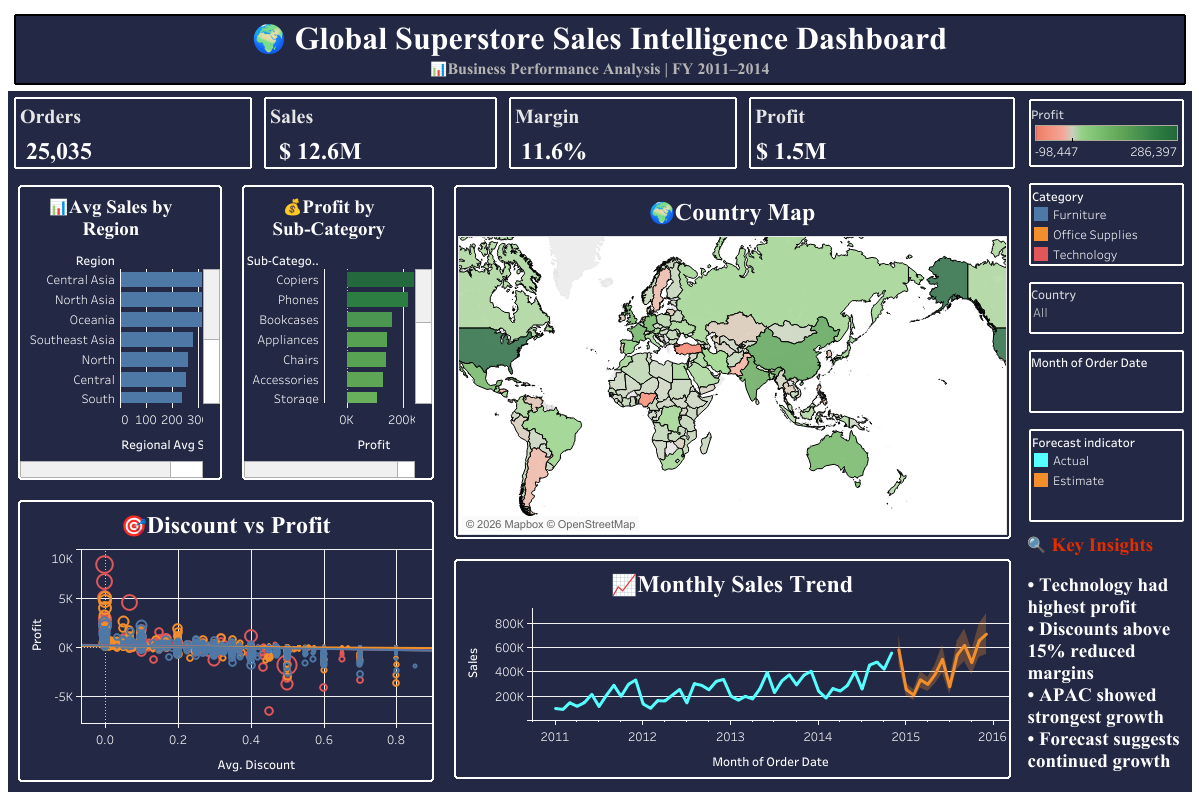

The dashboard page shown, as its layout file describes it:
{"tool":"tableau","page":{"name":"Dashboard 1","canvas":[1200,800],"ordinal":0},"visuals":[{"type":"title","box":[8,8,1184,83]},{"type":"worksheet","title":"Sheet 4","mark":"Automatic","box":[8,91,249.8,84]},{"type":"worksheet","title":"Sheet 2","mark":"Automatic","box":[257.8,91,245.5,84]},{"type":"worksheet","title":"Sheet 5","mark":"Automatic","box":[503.3,91,239.6,84]},{"type":"worksheet","title":"Sheet 3","mark":"Automatic","box":[742.9,91,278.1,84]},{"type":"legend","title":"Sheet 1","param":"[federated.0s529w81pga0901gdeeqy06llczr].[sum:Profit:qk]","box":[1021,91,171,84]},{"type":"worksheet","title":"Sheet 7","mark":"Automatic","rows":["Region"],"cols":["Calculation_0985452577988609"],"box":[8,175,224.1,314.7]},{"type":"worksheet","title":"Sheet 6","mark":"Automatic","rows":["Sub-Category"],"cols":["Profit"],"box":[232.1,175,212.2,314.7]},{"type":"worksheet","title":"Sheet 1","mark":"Multipolygon","box":[444.3,175,576.7,374.4]},{"type":"legend","title":"Sheet 9","param":"[federated.0s529w81pga0901gdeeqy06llczr].[none:Category:nk]","box":[1021,175,171,98]},{"type":"filter","title":"Sheet 1","param":"[federated.0s529w81pga0901gdeeqy06llczr].[none:Country:nk]","box":[1021,273,171,64]},{"type":"filter","title":"Sheet 8","param":"[federated.0s529w81pga0901gdeeqy06llczr].[tmn:Order Date:qk]","box":[1021,337,171,79]},{"type":"legend","title":"Sheet 8","param":"[federated.0s529w81pga0901gdeeqy06llczr].[none:Forecast Indicator:nk]","box":[1021,416,171,109]},{"type":"worksheet","title":"Sheet 9","mark":"Automatic","rows":["Profit"],"cols":["Discount"],"box":[8,489.7,436.3,302.3]},{"type":"text","box":[1021,525,171,250]},{"type":"worksheet","title":"Sheet 8","mark":"Line","rows":["Sales"],"cols":["Order Date"],"box":[444.3,549.4,576.7,239.9]}]}

Visuals, with their boxes in screenshot pixels (x1, y1, x2, y2), scaled from the page's 1200x800 canvas onto the 1199x799 screenshot:
title: 8 8 1191 91
"Sheet 4" worksheet: 8 91 258 175
"Sheet 2" worksheet: 258 91 503 175
"Sheet 5" worksheet: 503 91 742 175
"Sheet 3" worksheet: 742 91 1020 175
"Sheet 1" legend: 1020 91 1191 175
"Sheet 7" worksheet: 8 175 232 489
"Sheet 6" worksheet: 232 175 444 489
"Sheet 1" worksheet (Multipolygon marks): 444 175 1020 549
"Sheet 9" legend: 1020 175 1191 273
"Sheet 1" filter: 1020 273 1191 337
"Sheet 8" filter: 1020 337 1191 415
"Sheet 8" legend: 1020 415 1191 524
"Sheet 9" worksheet: 8 489 444 791
text: 1020 524 1191 774
"Sheet 8" worksheet (Line marks): 444 549 1020 788
